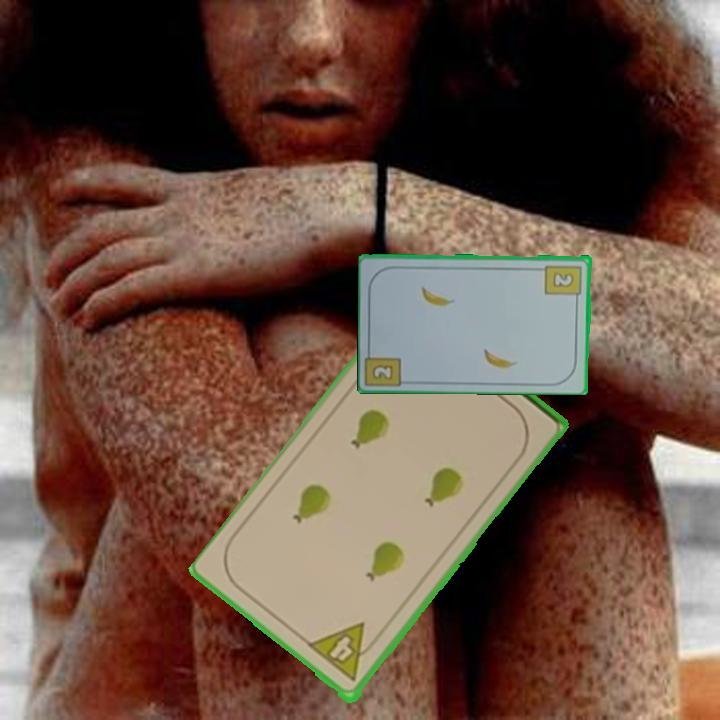2b: (543, 262, 584, 304), (368, 361, 396, 382)
4p: (306, 619, 383, 686)
